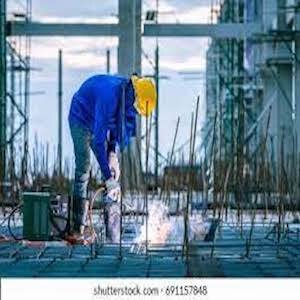heat: (136, 203, 181, 249)
safety: (133, 79, 158, 116)
